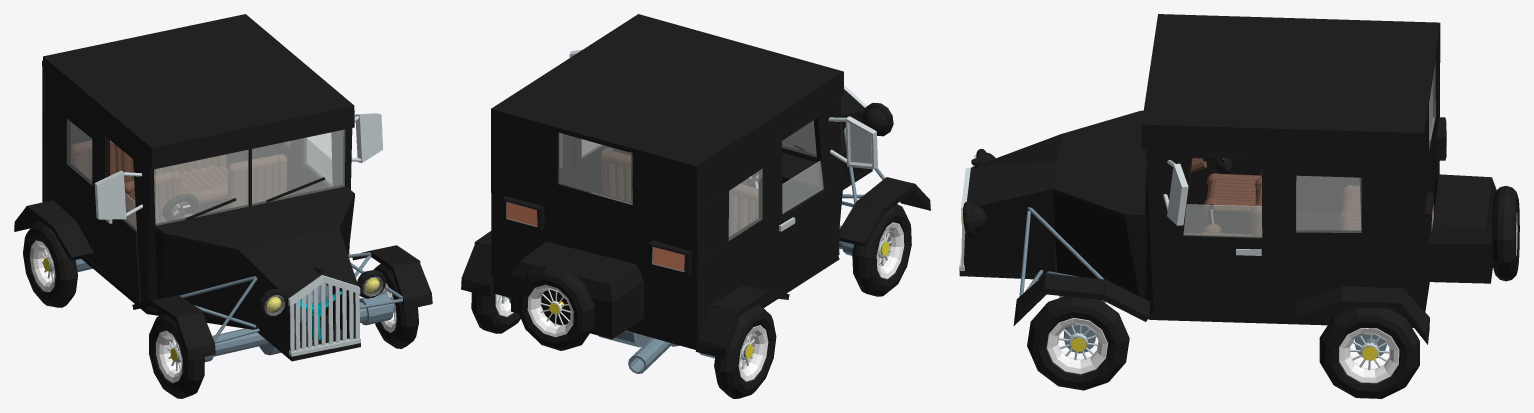
The model's file is group1643766101_lev3.glb.
3 views of the same model, side by side, from view 1: azimuth 30°, elevation 25°; view 2: azimuth 150°, elevation 25°; view 3: azimuth 270°, elevation 25° (orthographic). The views are drawn at different scales.
Parts seen in each view (by area): view 1: group1643766101_lev3; view 2: group1643766101_lev3; view 3: group1643766101_lev3.
Boxes of the visible parts, x1,y1,x2,y2 form: group1643766101_lev3: [14, 14, 432, 398]; group1643766101_lev3: [461, 14, 930, 398]; group1643766101_lev3: [959, 14, 1519, 398].
Bounding box in the file's own units: 3.1 × 2.37 × 4.61.
